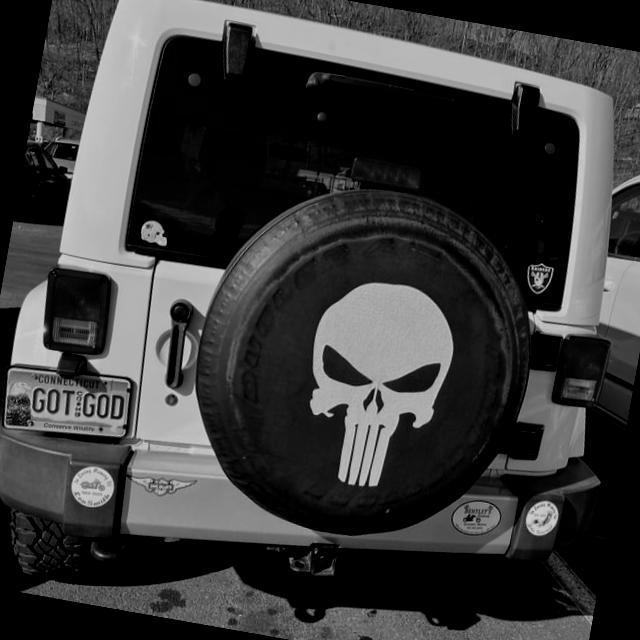LicensePlate: (1, 367, 131, 438)
